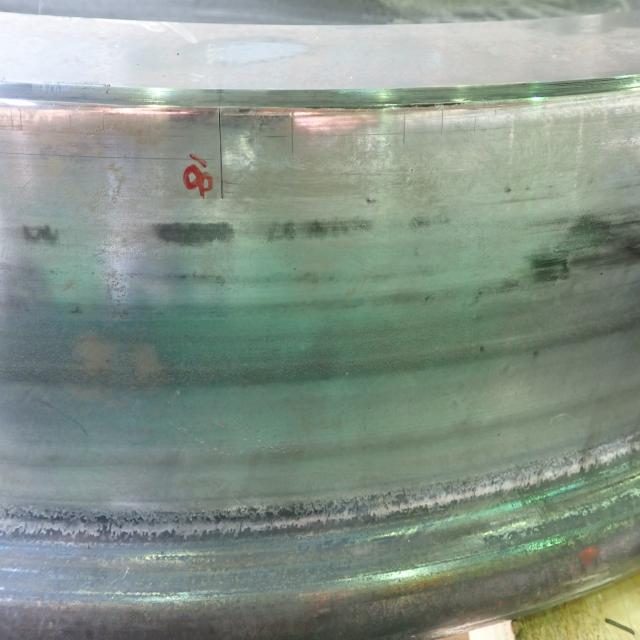Brake_Thermal_Cracks: (219, 100, 225, 199), (290, 111, 296, 157), (403, 113, 408, 146), (19, 109, 25, 135), (69, 109, 74, 133), (10, 108, 15, 131), (441, 109, 445, 137), (474, 116, 478, 136), (102, 117, 106, 134)
